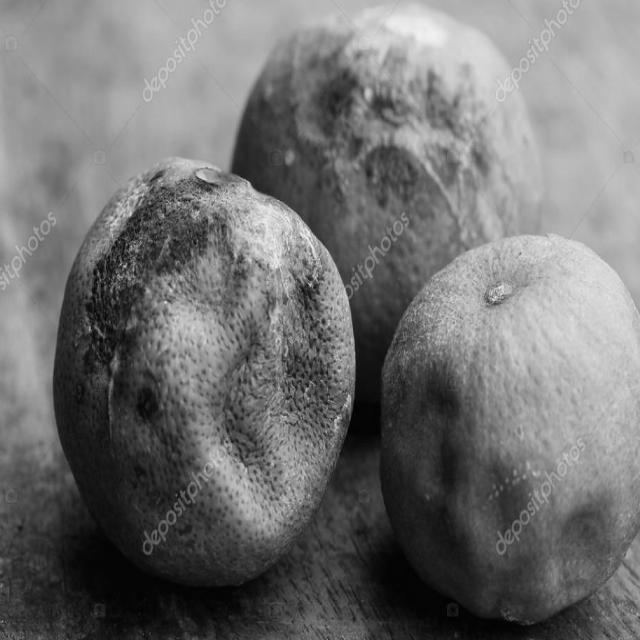Rotten: (52, 158, 358, 590)
overripe: (374, 232, 640, 620)
